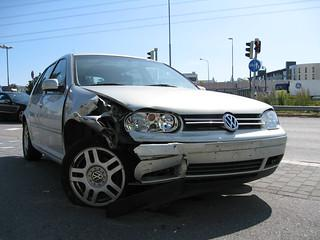Headlight-Damage: (123, 103, 185, 139)
fender-dent: (64, 90, 116, 128)
front-bumper-dent: (130, 135, 243, 181)
